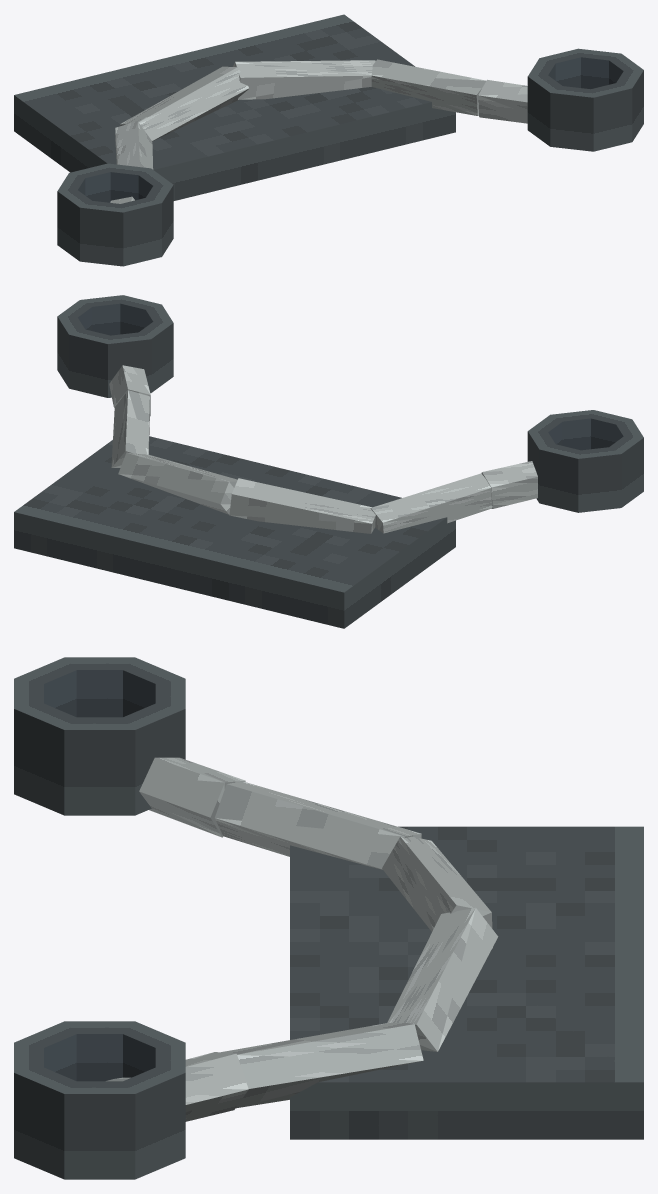
The model's file is f_shackle.glb.
The picture shows the model from 3 angles, top to bottom: view 1: azimuth 30°, elevation 25°; view 2: azimuth 150°, elevation 25°; view 3: azimuth 270°, elevation 25°; orthographic projection. The views are drawn at different scales.
Parts seen in each view (by area): view 1: block_anchor-bolts-plate, block_heavy-chain-1 (×2), block_heavy-chain-2 (×2), block_iron-cuff-outer-2 (×2), block_iron-cuff-outer-1 (×2), block_iron-cuff-outer-3 (×2), block_heavy-chain-3, block_iron-cuff-inner-6 (×2), block_iron-cuff-inner-5 (×2), block_iron-cuff-outer-0 (×2); view 2: block_anchor-bolts-plate, block_heavy-chain-1 (×2), block_heavy-chain-2 (×2), block_iron-cuff-outer-5 (×2), block_iron-cuff-outer-4 (×2), block_heavy-chain-3 (×2), block_iron-cuff-outer-3 (×2), block_iron-cuff-inner-0 (×2), block_iron-cuff-inner-1 (×2), block_iron-cuff-outer-6; view 3: block_anchor-bolts-plate, block_heavy-chain-2 (×2), block_heavy-chain-1 (×2), block_iron-cuff-outer-7 (×2), block_iron-cuff-outer-0 (×2), block_heavy-chain-3 (×2), block_iron-cuff-outer-6 (×2), block_iron-cuff-inner-3 (×2), block_iron-cuff-inner-2 (×2), block_iron-cuff-inner-4 (×2), block_iron-cuff-far-rim-2 (×2), block_iron-cuff-far-rim-5 (×2) (+6 smaller).
Boxes of the visible parts, left/top/right/bottom form: block_anchor-bolts-plate: left=14, top=14, right=455, bottom=200; block_heavy-chain-1 (×2): left=120, top=60, right=375, bottom=141; block_heavy-chain-2 (×2): left=115, top=59, right=485, bottom=169; block_iron-cuff-outer-2 (×2): left=80, top=93, right=593, bottom=266; block_iron-cuff-outer-1 (×2): left=123, top=88, right=632, bottom=266; block_iron-cuff-outer-3 (×2): left=57, top=76, right=550, bottom=261; block_heavy-chain-3: left=478, top=79, right=527, bottom=123; block_iron-cuff-inner-6 (×2): left=110, top=57, right=608, bottom=200; block_iron-cuff-inner-5 (×2): left=85, top=57, right=580, bottom=202; block_iron-cuff-outer-0 (×2): left=162, top=70, right=643, bottom=256; block_anchor-bolts-plate: left=14, top=436, right=455, bottom=628; block_heavy-chain-1 (×2): left=118, top=452, right=375, bottom=533; block_heavy-chain-2 (×2): left=111, top=390, right=492, bottom=533; block_iron-cuff-outer-5 (×2): left=69, top=334, right=578, bottom=512; block_iron-cuff-outer-4 (×2): left=108, top=339, right=621, bottom=512; block_heavy-chain-3 (×2): left=109, top=365, right=537, bottom=508; block_iron-cuff-outer-3 (×2): left=151, top=323, right=643, bottom=507; block_iron-cuff-inner-0 (×2): left=92, top=303, right=590, bottom=450; block_iron-cuff-inner-1 (×2): left=120, top=303, right=615, bottom=449; block_iron-cuff-outer-6: left=57, top=317, right=68, bottom=387; block_anchor-bolts-plate: left=290, top=826, right=643, bottom=1139; block_heavy-chain-2 (×2): left=215, top=782, right=423, bottom=1108; block_heavy-chain-1 (×2): left=382, top=836, right=498, bottom=1051; block_iron-cuff-outer-7 (×2): left=64, top=730, right=135, bottom=1179; block_iron-cuff-outer-0 (×2): left=14, top=709, right=64, bottom=1179; block_heavy-chain-3 (×2): left=106, top=757, right=248, bottom=1121; block_iron-cuff-outer-6 (×2): left=135, top=709, right=185, bottom=1179; block_iron-cuff-inner-3 (×2): left=76, top=670, right=122, bottom=1081; block_iron-cuff-inner-2 (×2): left=44, top=670, right=76, bottom=1080; block_iron-cuff-inner-4 (×2): left=123, top=670, right=155, bottom=1077; block_iron-cuff-far-rim-2 (×2): left=14, top=657, right=76, bottom=1047; block_iron-cuff-far-rim-5 (×2): left=155, top=678, right=185, bottom=1072.
Bounding box in the file's own units: 0.7004 × 0.102 × 0.4272.
Materials: 1 (1 with a texture image).
